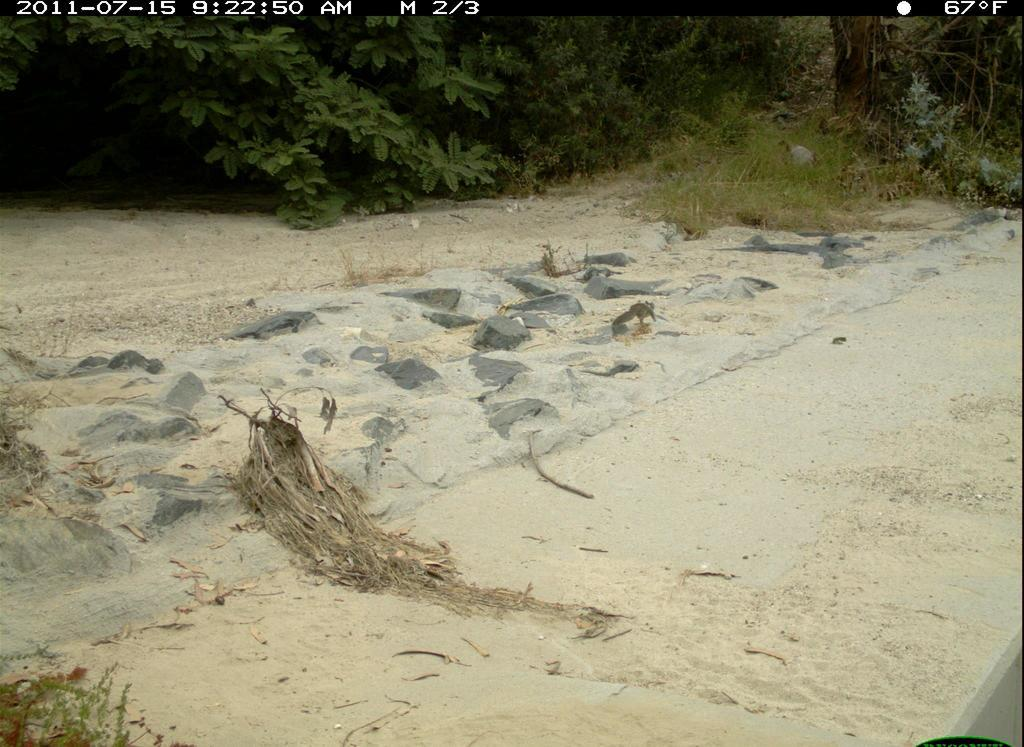squirrel: (610, 297, 660, 335)
